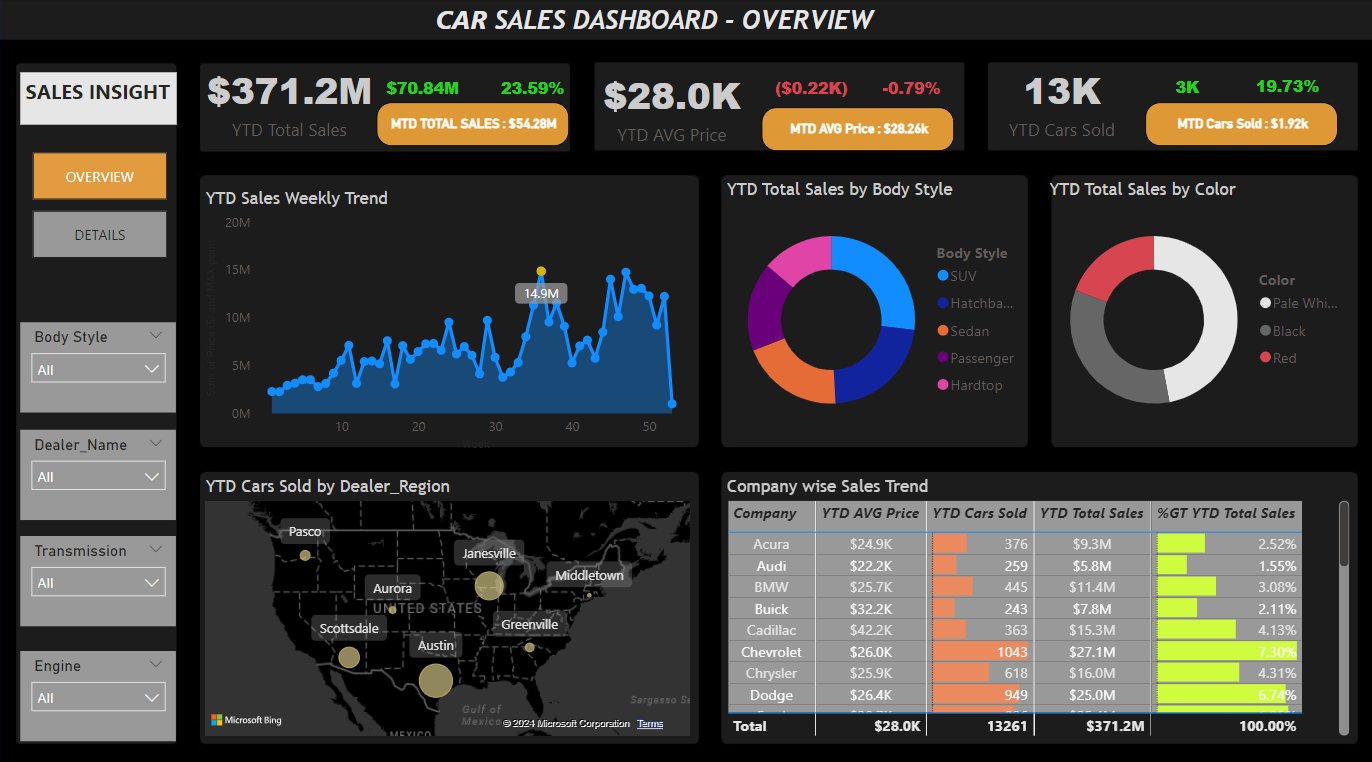

The page's visual inventory and layout, read from the dashboard file:
{"tool":"powerbi","page":{"name":"OVERVIEW","canvas":[1280,720],"ordinal":0},"visuals":[{"type":"card","fields":{"Values":["car_data.YTD Total Sales"]},"box":[187.2,58.1,166.3,81.4],"z":0},{"type":"card","fields":{"Values":["car_data.Sales Difference"]},"box":[347.7,73.3,93,30.2],"z":1000},{"type":"card","fields":{"Values":["car_data.YOY Sales Growth"]},"box":[450,73.3,93,30.2],"z":2000},{"type":"card","fields":{"Values":["car_data.MTD KPI"]},"box":[351.2,98.8,179.1,40.7],"z":3000},{"type":"card","fields":{"Values":["car_data.YTD AVG Price"]},"box":[555.8,62.8,140.7,81.4],"z":4000},{"type":"card","fields":{"Values":["car_data.AVG  Price Diff"]},"box":[709.3,73.3,93,30.2],"z":5000},{"type":"card","fields":{"Values":["car_data.YOY Avg Price Growth"]},"box":[802.3,73.3,93,30.2],"z":6000},{"type":"card","fields":{"Values":["car_data.MTD AVG Price KPI"]},"box":[709.4,103.6,179.5,40.9],"z":7000},{"type":"card","fields":{"Values":["car_data.YTD Cars Sold"]},"box":[918.9,57.8,140.9,81.9],"z":8000},{"type":"card","fields":{"Values":["car_data.Cars sold diff"]},"box":[1059.8,72.3,92.7,30.1],"z":9000},{"type":"card","fields":{"Values":["car_data.YOY Car Sold Growth"]},"box":[1152.6,71.1,92.7,31.3],"z":10000},{"type":"card","fields":{"Values":["car_data.MTD Cars sold KPI"]},"box":[1065.9,98.8,179.5,40.9],"z":11000},{"type":"areaChart","title":"YTD Sales Weekly Trend","fields":{"Category":["Calender table.Week"],"Y":["Sum(car_data.Price ($))","car_data.MAX point"]},"box":[186.7,178.2,461.3,250.5],"z":12000},{"type":"donutChart","fields":{"Category":["car_data.Body Style"],"Y":["car_data.YTD Total Sales"]},"box":[672.5,170,288.8,245],"z":13000},{"type":"donutChart","fields":{"Category":["car_data.Color"],"Y":["car_data.YTD Total Sales"]},"box":[972.5,170,288.8,245],"z":14000},{"type":"map","fields":{"Category":["car_data.Dealer_Region"],"Size":["car_data.YTD Cars Sold"]},"box":[187.5,446.2,460,246.2],"z":15000},{"type":"tableEx","title":"Company wise Sales Trend","fields":{"Values":["car_data.Company","car_data.YTD AVG Price","car_data.YTD Cars Sold","car_data.YTD Total Sales1","car_data.YTD Total Sales"]},"box":[672.5,446.2,588.8,246.2],"z":16000},{"type":"textbox","box":[401.2,0,542.5,42.5],"z":17000},{"type":"slicer","fields":{"Values":["car_data.Body Style"]},"box":[20,303.8,145,83.8],"z":18000},{"type":"slicer","fields":{"Values":["car_data.Dealer_Name"]},"box":[20,403.8,145,83.8],"z":19000},{"type":"slicer","fields":{"Values":["car_data.Transmission"]},"box":[20,502.5,145,83.8],"z":20000},{"type":"slicer","fields":{"Values":["car_data.Engine"]},"box":[20,608.8,145,83.8],"z":21000},{"type":"pageNavigator","box":[31.2,145,125,98.8],"z":22000},{"type":"textbox","box":[19.8,70.9,145.3,48.8],"z":23000}]}

Visuals, with their boxes in screenshot pixels (x1, y1, x2, y2), scaled from the page's 1280x720 canvas onto the 1372x762 screenshot:
card - car_data.YTD Total Sales: {"left": 201, "top": 61, "right": 379, "bottom": 148}
card - car_data.Sales Difference: {"left": 373, "top": 78, "right": 472, "bottom": 110}
card - car_data.YOY Sales Growth: {"left": 482, "top": 78, "right": 582, "bottom": 110}
card - car_data.MTD KPI: {"left": 376, "top": 105, "right": 568, "bottom": 148}
card - car_data.YTD AVG Price: {"left": 596, "top": 66, "right": 747, "bottom": 153}
card - car_data.AVG  Price Diff: {"left": 760, "top": 78, "right": 860, "bottom": 110}
card - car_data.YOY Avg Price Growth: {"left": 860, "top": 78, "right": 960, "bottom": 110}
card - car_data.MTD AVG Price KPI: {"left": 760, "top": 110, "right": 953, "bottom": 153}
card - car_data.YTD Cars Sold: {"left": 985, "top": 61, "right": 1136, "bottom": 148}
card - car_data.Cars sold diff: {"left": 1136, "top": 77, "right": 1235, "bottom": 108}
card - car_data.YOY Car Sold Growth: {"left": 1235, "top": 75, "right": 1335, "bottom": 108}
card - car_data.MTD Cars sold KPI: {"left": 1143, "top": 105, "right": 1335, "bottom": 148}
"YTD Sales Weekly Trend" areaChart: {"left": 200, "top": 189, "right": 695, "bottom": 454}
donutChart - car_data.Body Style x car_data.YTD Total Sales: {"left": 721, "top": 180, "right": 1030, "bottom": 439}
donutChart - car_data.Color x car_data.YTD Total Sales: {"left": 1042, "top": 180, "right": 1352, "bottom": 439}
map - car_data.Dealer_Region x car_data.YTD Cars Sold: {"left": 201, "top": 472, "right": 694, "bottom": 733}
"Company wise Sales Trend" tableEx: {"left": 721, "top": 472, "right": 1352, "bottom": 733}
textbox: {"left": 430, "top": 0, "right": 1012, "bottom": 45}
slicer - car_data.Body Style: {"left": 21, "top": 322, "right": 177, "bottom": 410}
slicer - car_data.Dealer_Name: {"left": 21, "top": 427, "right": 177, "bottom": 516}
slicer - car_data.Transmission: {"left": 21, "top": 532, "right": 177, "bottom": 621}
slicer - car_data.Engine: {"left": 21, "top": 644, "right": 177, "bottom": 733}
pageNavigator: {"left": 33, "top": 153, "right": 167, "bottom": 258}
textbox: {"left": 21, "top": 75, "right": 177, "bottom": 127}
